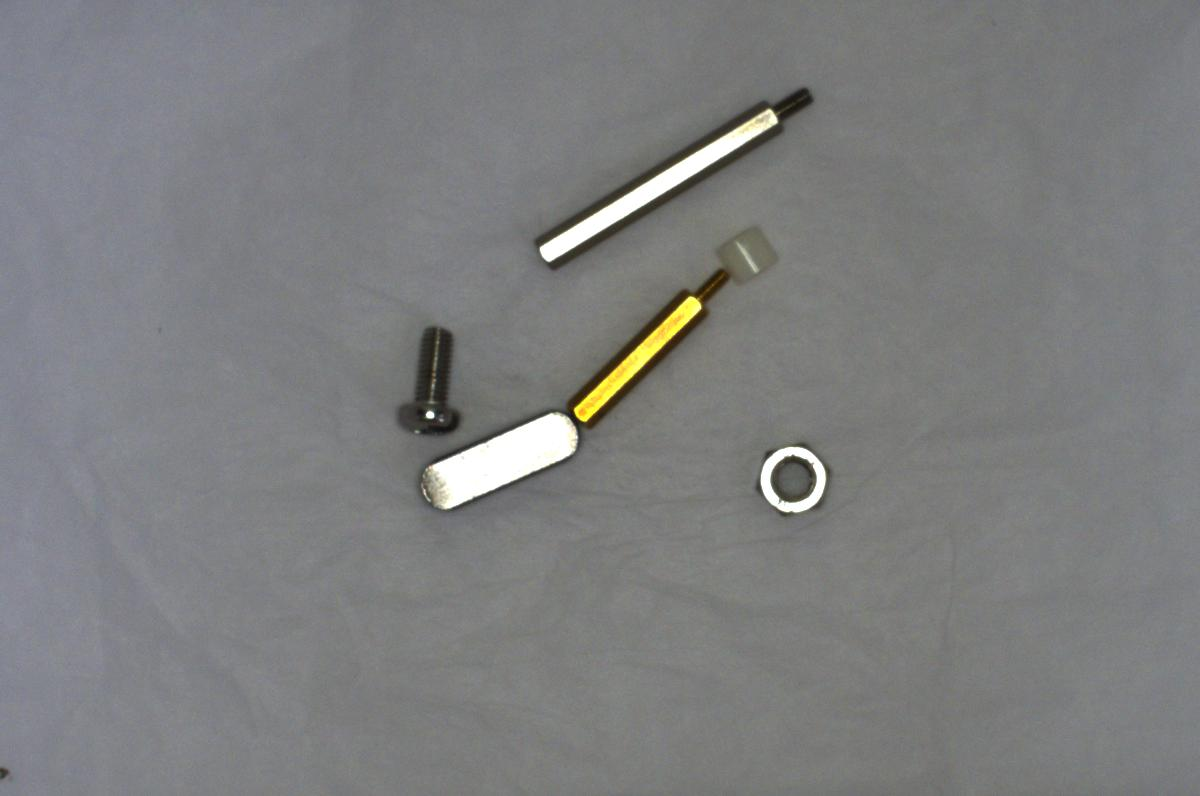Hexagon nut: (752, 435, 834, 514)
Hexagon pillar: (584, 260, 733, 423)
Hexagonal steel column: (538, 76, 821, 271)
Keybar: (416, 398, 583, 517)
Plastic cushion pillar: (710, 222, 780, 285)
Round head screw: (389, 315, 476, 444)
